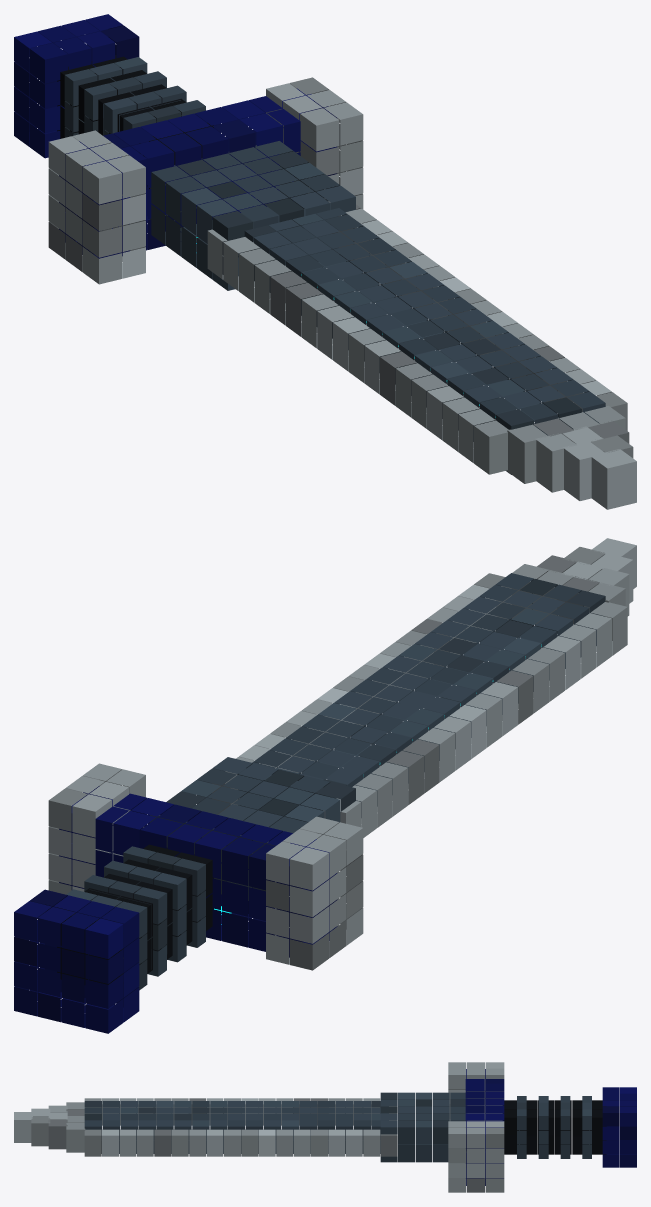
The model's file is WISP_Sword_v001.fbx.
3 views of the same model, one above another, from view 1: azimuth 30°, elevation 25°; view 2: azimuth 150°, elevation 25°; view 3: azimuth 270°, elevation 25° (orthographic). The views are drawn at different scales.
Visible parts, largest first — view 1: Sword blade spine, Sword cutting edge, Sword blade base, Sword guard end, Sword crossguard, Sword pommel, Sword guard end.001, Sword cutting edge.001, Sword stepped tip, Sword grip, Sword stepped tip.001, Sword stepped tip.003 (+5 smaller); view 2: Sword blade spine, Sword cutting edge, Sword pommel, Sword crossguard, Sword guard end, Sword blade base, Sword guard end.001, Sword cutting edge.001, Sword grip, Sword grip wrap.002, Sword grip wrap.001, Sword grip wrap (+5 smaller); view 3: Sword blade spine, Sword cutting edge.001, Sword blade base, Sword guard end.001, Sword grip, Sword pommel, Sword crossguard, Sword cutting edge, Sword guard end, Sword stepped tip, Sword stepped tip.001, Sword stepped tip.002 (+5 smaller).
Part boxes in pixels (x1,y1,x2,y2): Sword blade spine: [238, 202, 605, 474]; Sword cutting edge: [207, 229, 508, 474]; Sword blade base: [150, 141, 355, 290]; Sword guard end: [48, 130, 145, 284]; Sword crossguard: [59, 88, 336, 258]; Sword pommel: [14, 14, 139, 158]; Sword guard end.001: [266, 77, 363, 208]; Sword cutting edge.001: [328, 201, 627, 430]; Sword stepped tip: [507, 405, 625, 483]; Sword grip: [57, 55, 213, 188]; Sword stepped tip.001: [535, 420, 629, 492]; Sword stepped tip.003: [590, 449, 636, 509]; Sword blade spine: [237, 573, 605, 827]; Sword cutting edge: [323, 602, 627, 837]; Sword pommel: [14, 889, 139, 1033]; Sword crossguard: [59, 786, 337, 957]; Sword guard end: [266, 816, 363, 970]; Sword blade base: [150, 757, 355, 900]; Sword guard end.001: [48, 763, 145, 894]; Sword cutting edge.001: [212, 573, 511, 814]; Sword grip: [57, 844, 213, 984]; Sword grip wrap.002: [84, 875, 166, 976]; Sword grip wrap.001: [104, 860, 186, 962]; Sword grip wrap: [123, 846, 205, 947]; Sword blade spine: [84, 1101, 388, 1153]; Sword cutting edge.001: [84, 1129, 397, 1156]; Sword blade base: [380, 1092, 466, 1162]; Sword guard end.001: [448, 1121, 504, 1192]; Sword grip: [503, 1100, 606, 1154]; Sword pommel: [602, 1087, 636, 1167]; Sword crossguard: [465, 1069, 504, 1185]; Sword cutting edge: [84, 1098, 397, 1125]; Sword guard end: [448, 1062, 504, 1120]; Sword stepped tip: [66, 1102, 85, 1152]; Sword stepped tip.001: [48, 1105, 67, 1149]; Sword stepped tip.002: [31, 1108, 50, 1146].
Size of the model in its own units: 0.3889 by 0.1616 by 1.43.
Materials: 1 (1 with a texture image).
